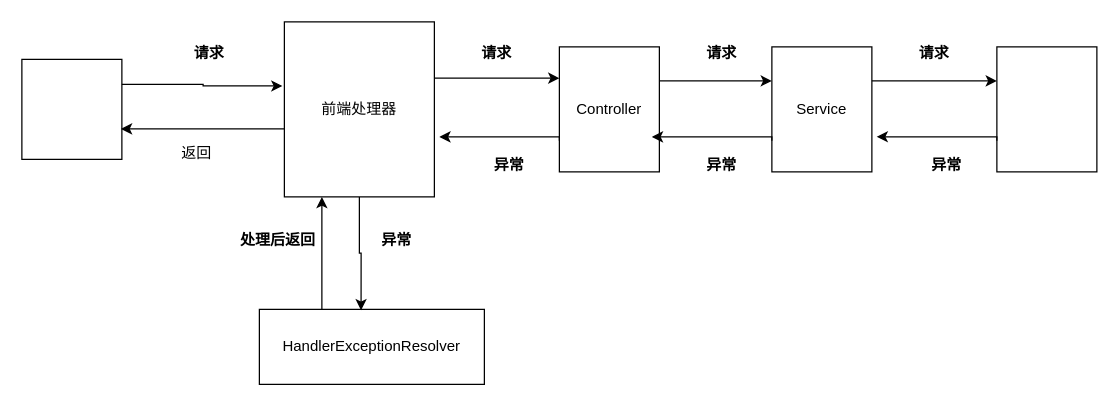
This 1119x406 diagram has some shape labels left out. The centre of each missing label's shape, as x and y in pixels:
"DAO" goes at [1046,109].
"客户端" goes at [71,108].
